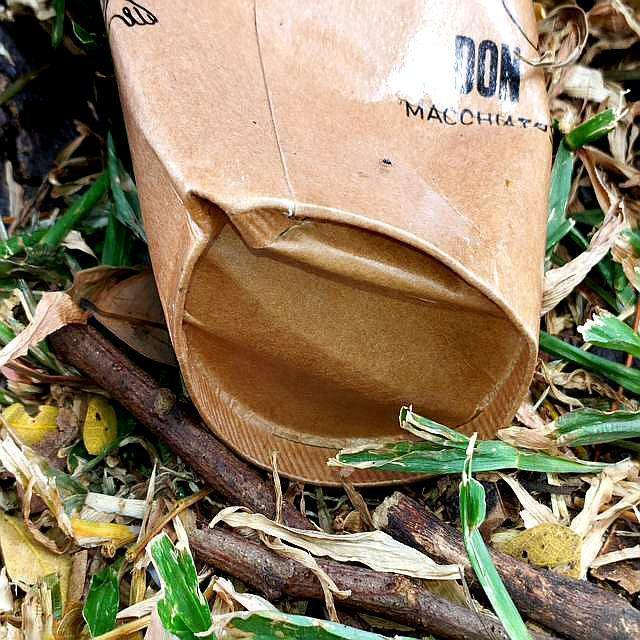Biodegradable: (99, 1, 557, 485)
